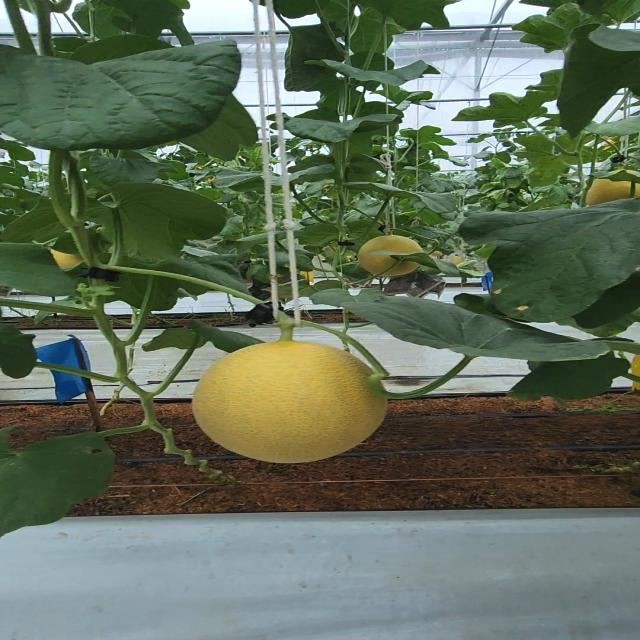Front-melon: (195, 341, 389, 465)
